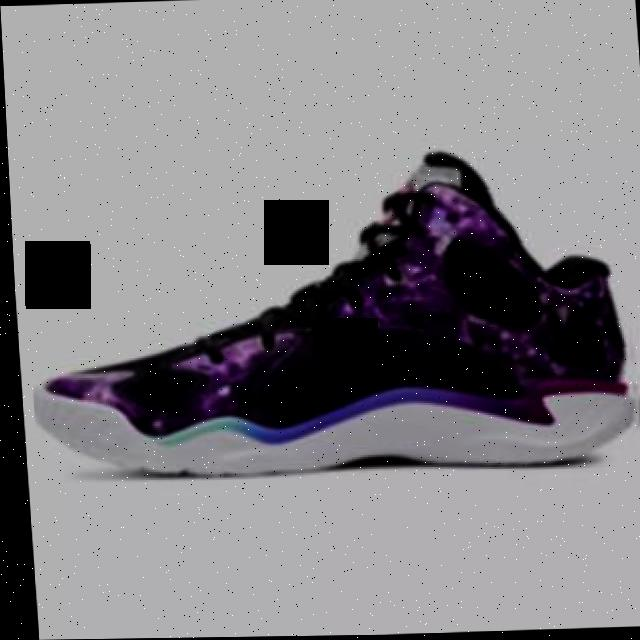shoe: (15, 145, 640, 483)
